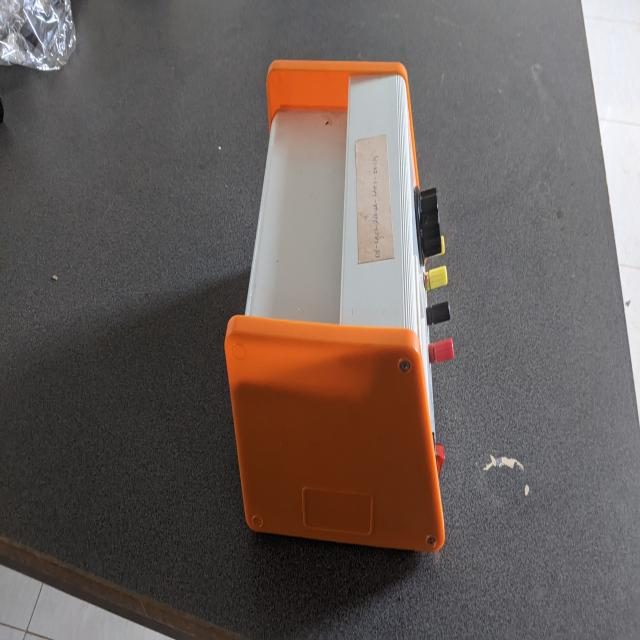AC and DC Power Supply 24V: (225, 54, 458, 564)
